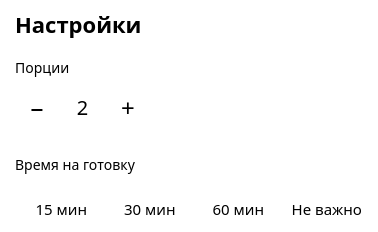
Scenario: SettingsView › тап по «+» сохраняет новое значение
The width and height of the screenshot is (378, 232).
Click the button named "Больше порций".
click(128, 108)  # box [106,86,150,130]
Wait 300 ms
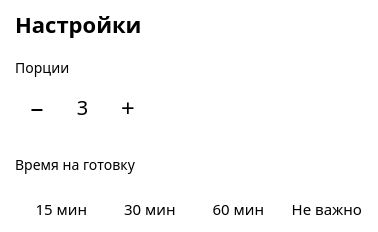
Expected: the text "3" is shown, [77,94,88,121]
